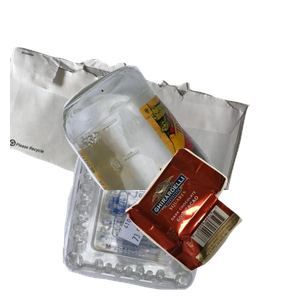glass: (60, 63, 300, 243)
paper: (10, 45, 250, 225)
plastic: (60, 141, 263, 300)
trash: (123, 145, 300, 300)
